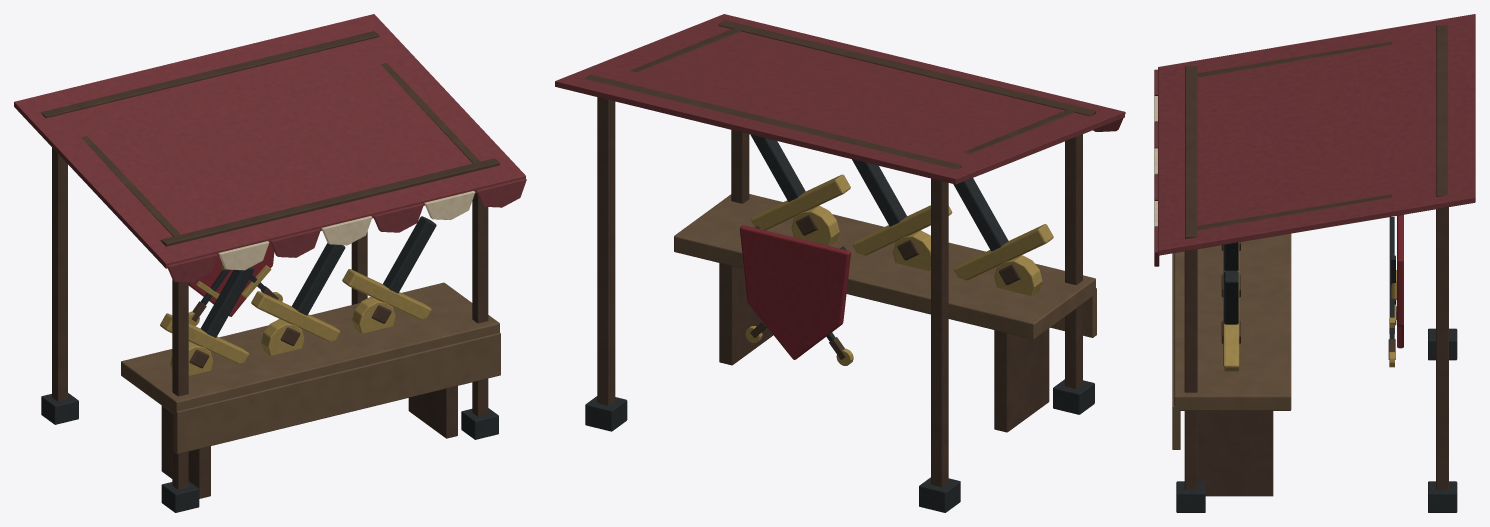
The model's file is Weapon_Stall.fbx.
3 views of the same model, side by side, from view 1: azimuth 30°, elevation 25°; view 2: azimuth 150°, elevation 25°; view 3: azimuth 270°, elevation 25° (orthographic). The views are drawn at different scales.
Visible parts, largest first — view 1: Weapon_Stall.001; view 2: Weapon_Stall.001; view 3: Weapon_Stall.001.
Part boxes in pixels (x1,y1,x2,y2): Weapon_Stall.001: (14,14,526,512); Weapon_Stall.001: (555,14,1125,512); Weapon_Stall.001: (1154,14,1475,512).
Bounding box in the file's own units: 3.56 × 2.94 × 2.63.
